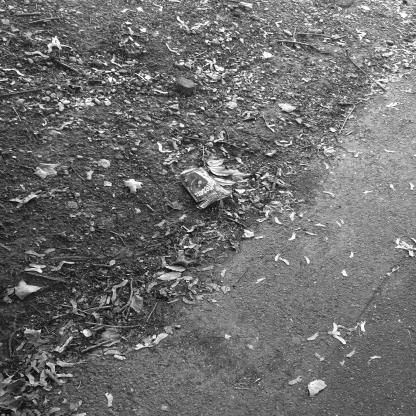plastic: (174, 160, 232, 214)
